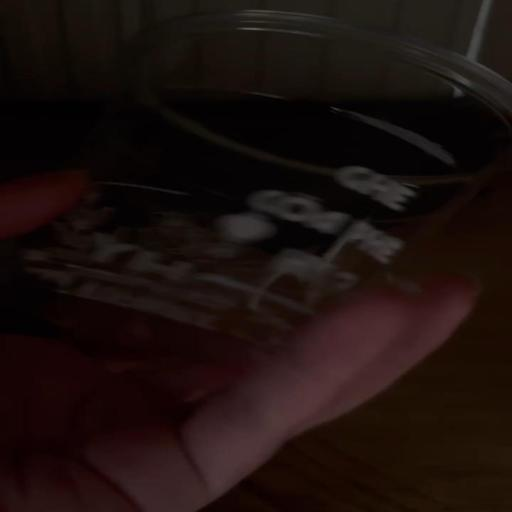ly_giay: (6, 10, 511, 348)
